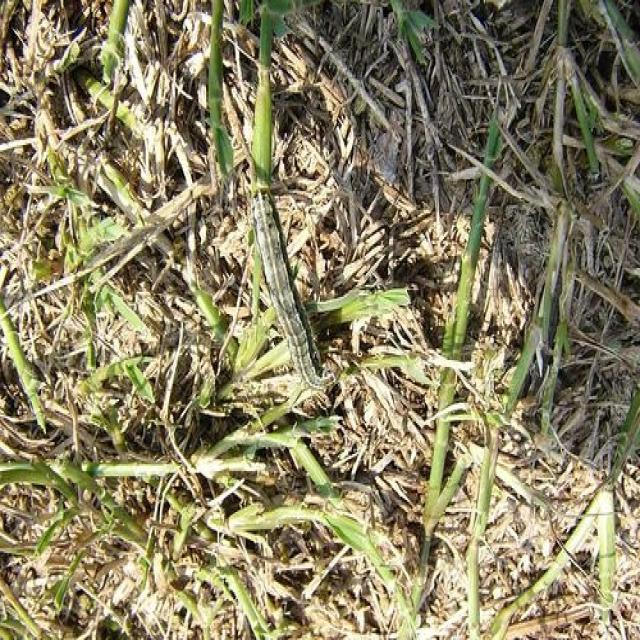army worm: (239, 187, 342, 395)
